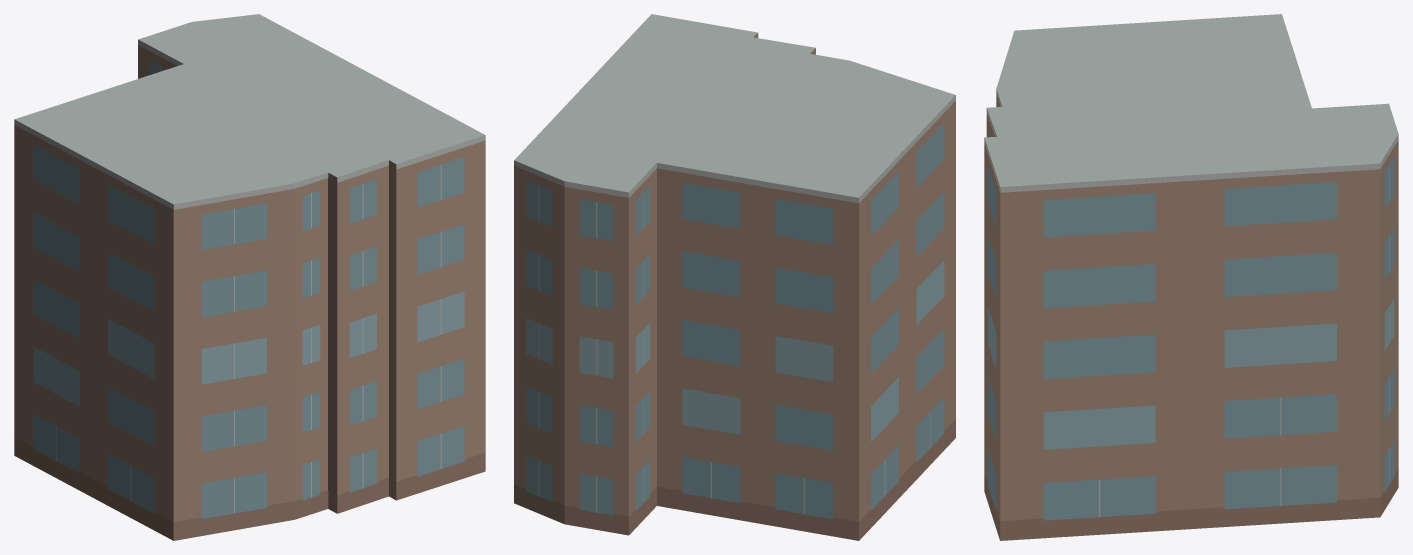
Rendered from survey-upis-32964432.glb.
The picture shows the model from 3 angles, left to right: view 1: azimuth 30°, elevation 25°; view 2: azimuth 150°, elevation 25°; view 3: azimuth 270°, elevation 25°; orthographic projection. The views are drawn at different scales.
Parts seen in each view (by area): view 1: survey-upis-32964432.tmp; view 2: survey-upis-32964432.tmp; view 3: survey-upis-32964432.tmp.
Boxes of the visible parts, left/top/right/bottom form: survey-upis-32964432.tmp: left=14, top=14, right=485, bottom=540; survey-upis-32964432.tmp: left=514, top=14, right=955, bottom=540; survey-upis-32964432.tmp: left=984, top=14, right=1398, bottom=540.
Bounding box in the file's own units: 16.02 × 15.25 × 16.2.
